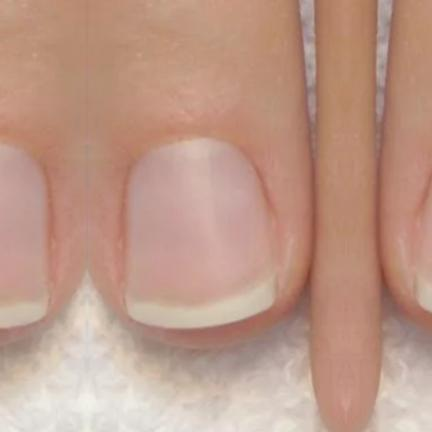Nail: (126, 136, 277, 327), (0, 140, 46, 326), (413, 173, 432, 313)
